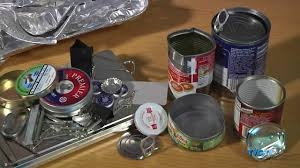metal: (208, 4, 274, 100), (228, 75, 295, 163), (162, 26, 220, 109), (161, 88, 228, 154), (40, 65, 98, 116), (12, 62, 66, 100), (112, 130, 157, 162), (129, 103, 168, 134), (1, 106, 33, 140), (98, 75, 126, 96), (93, 90, 115, 108)
